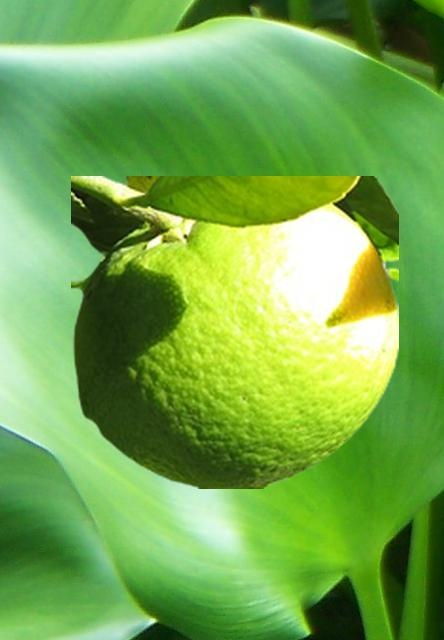dalandan: (71, 176, 397, 487)
